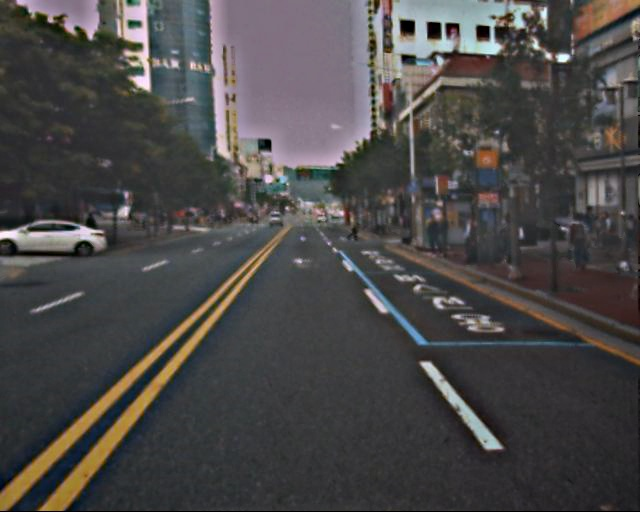person: (493, 214, 515, 268), (566, 214, 588, 268), (584, 204, 611, 246), (460, 214, 479, 261), (427, 215, 443, 255), (348, 210, 362, 243)
